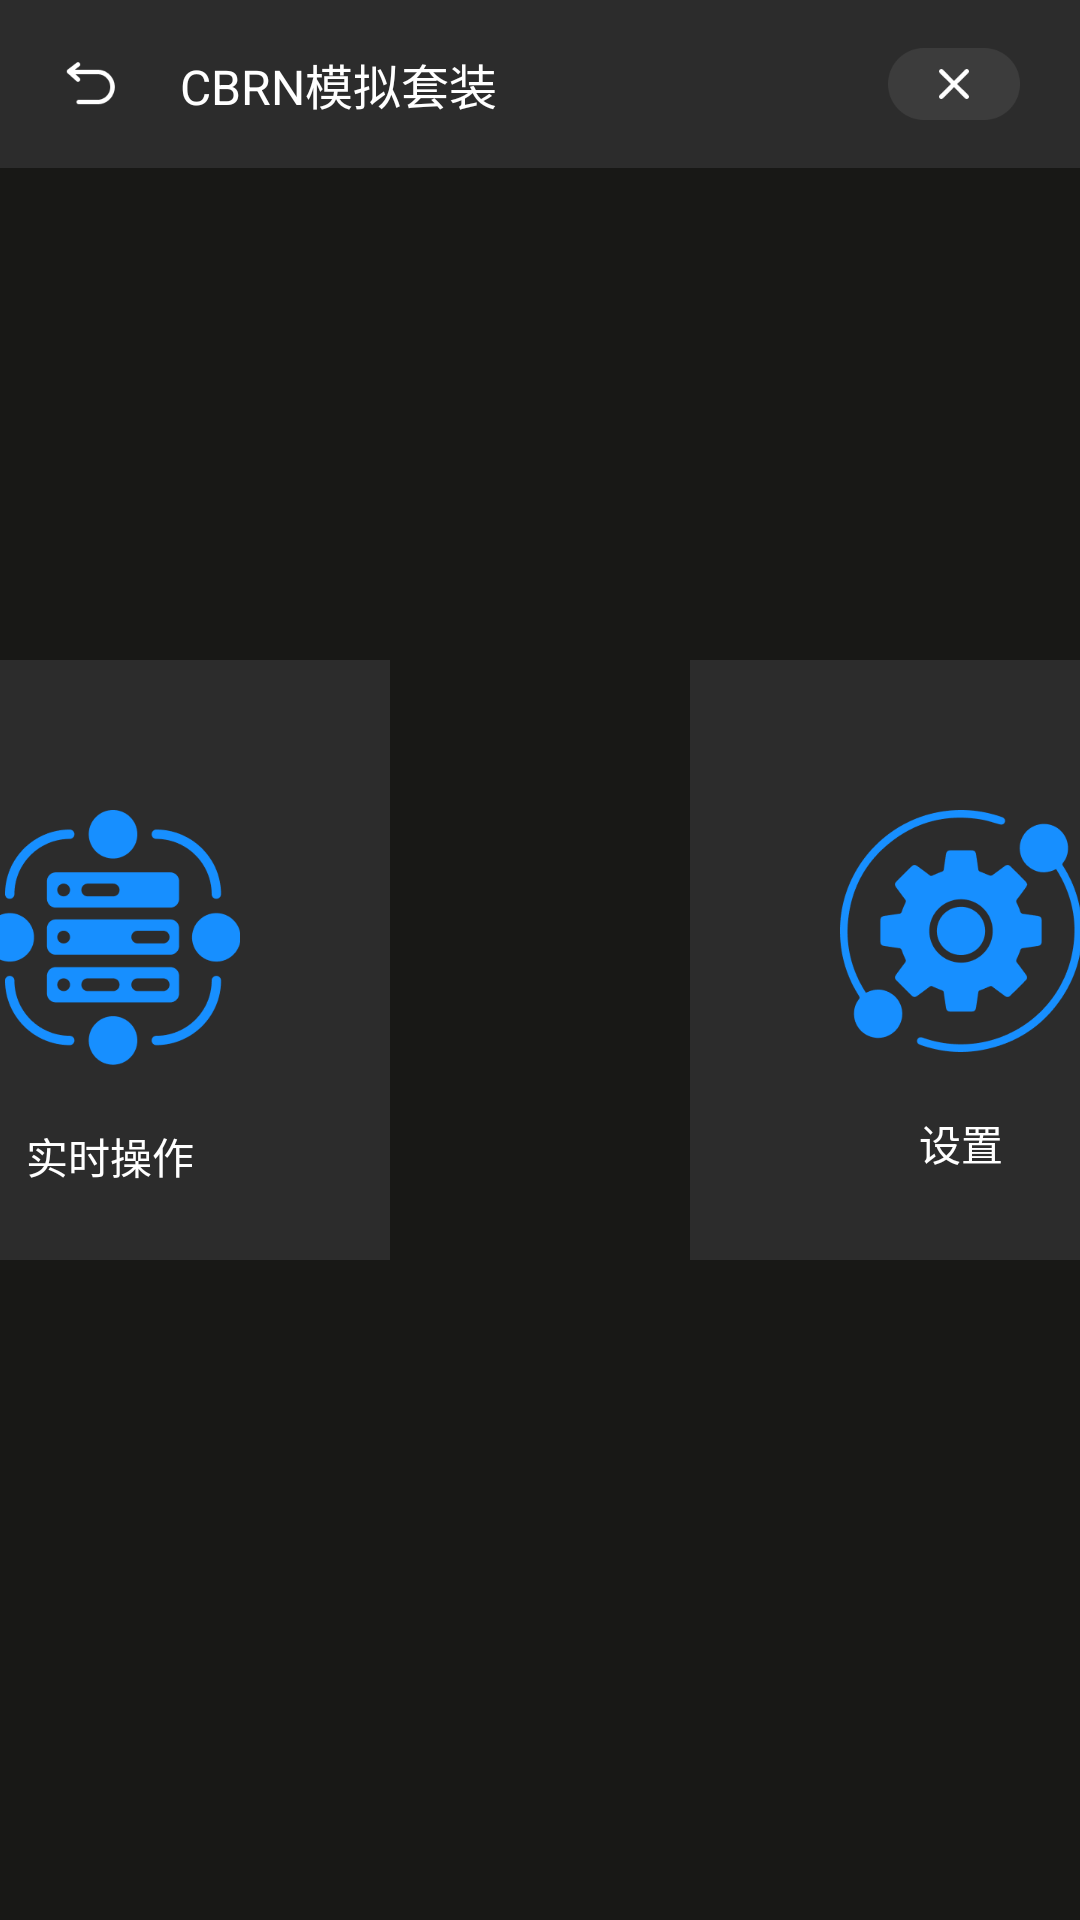

Locate icon controls on the screen. Image size 1080 x 1920, boxes as BBox(x1, y1, x2, y2).
back: BBox(66, 62, 115, 105)
cancel: BBox(888, 48, 1020, 120)
workspace: BBox(0, 810, 240, 1065)
